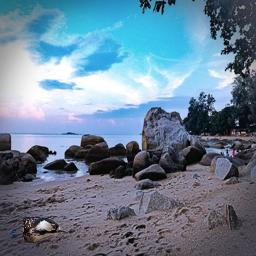Woodpecker: (23, 215, 68, 243)
